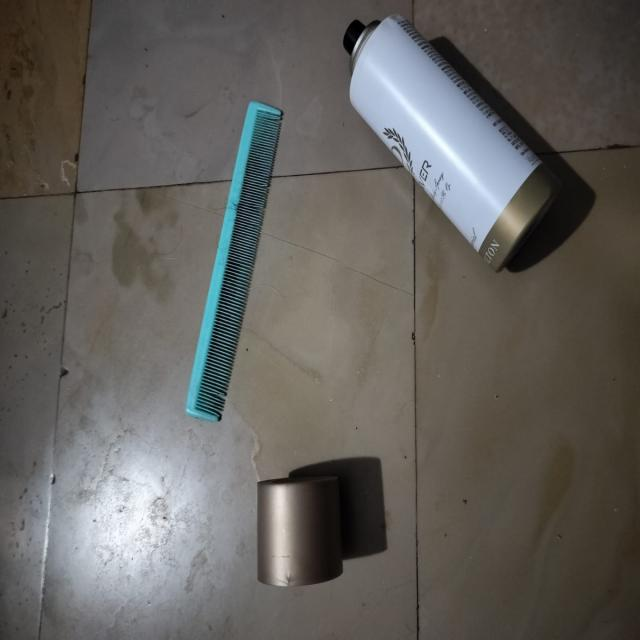dry: (322, 20, 577, 281), (179, 94, 291, 418), (242, 462, 404, 604)
